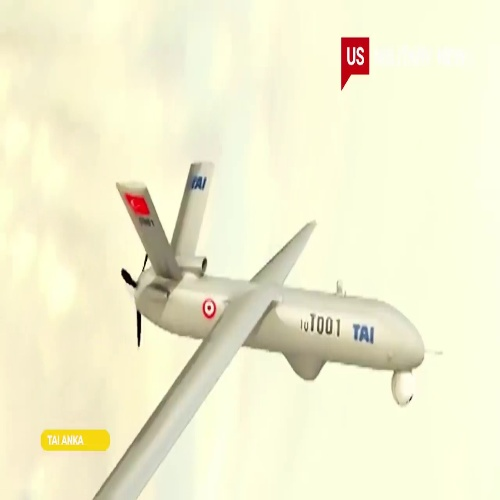uav: (92, 158, 426, 500)
